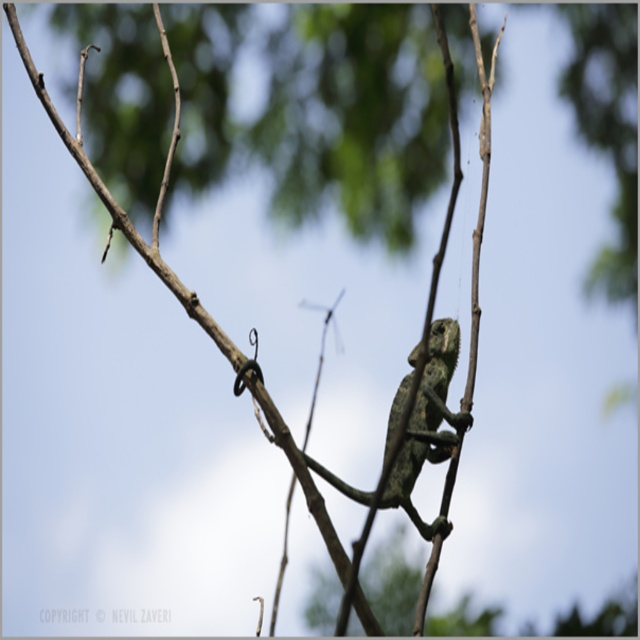Lizard: (234, 315, 474, 543)
